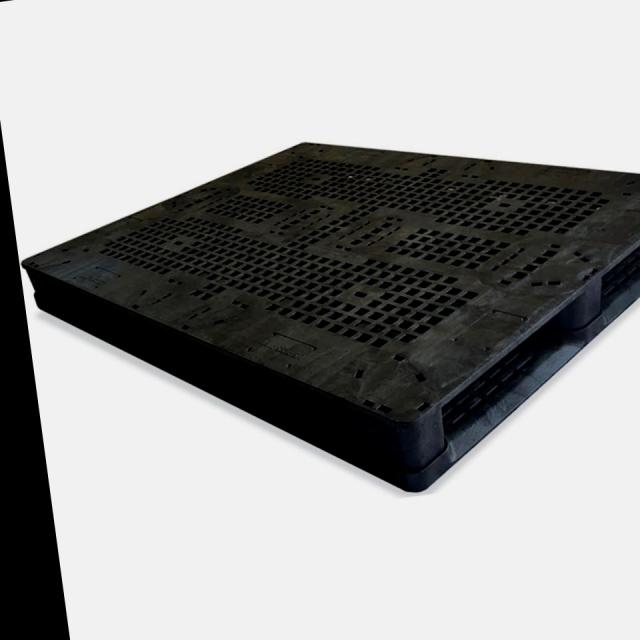non-igps: (20, 140, 640, 497)
